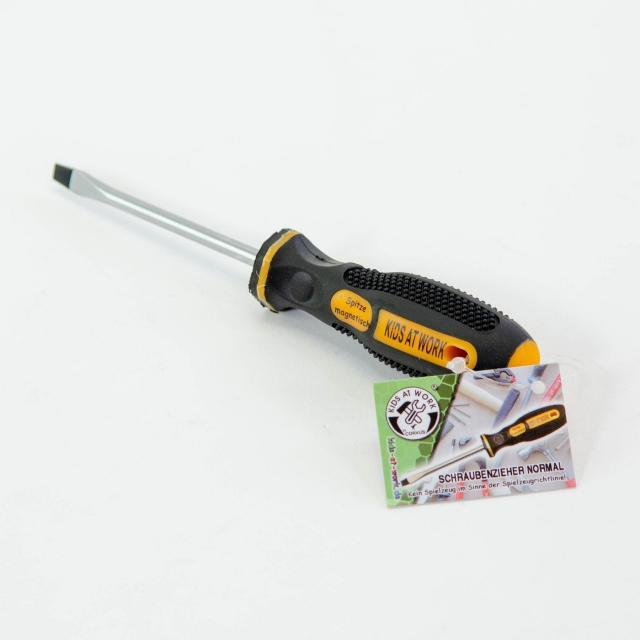screwdriver: (47, 158, 551, 394)
